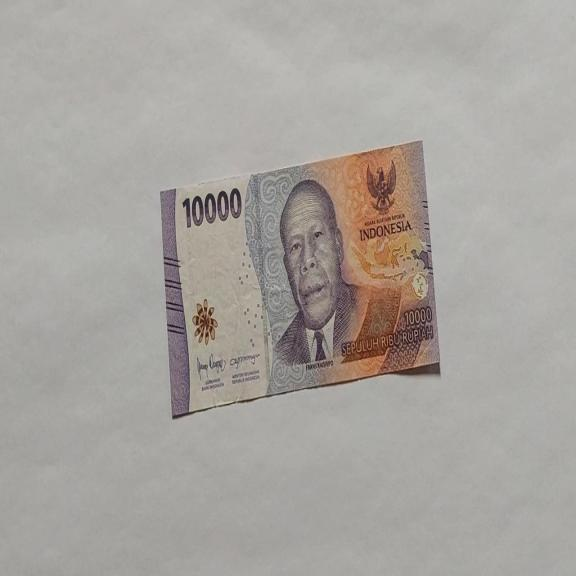Kertas: (160, 138, 441, 420), (181, 186, 242, 228)
